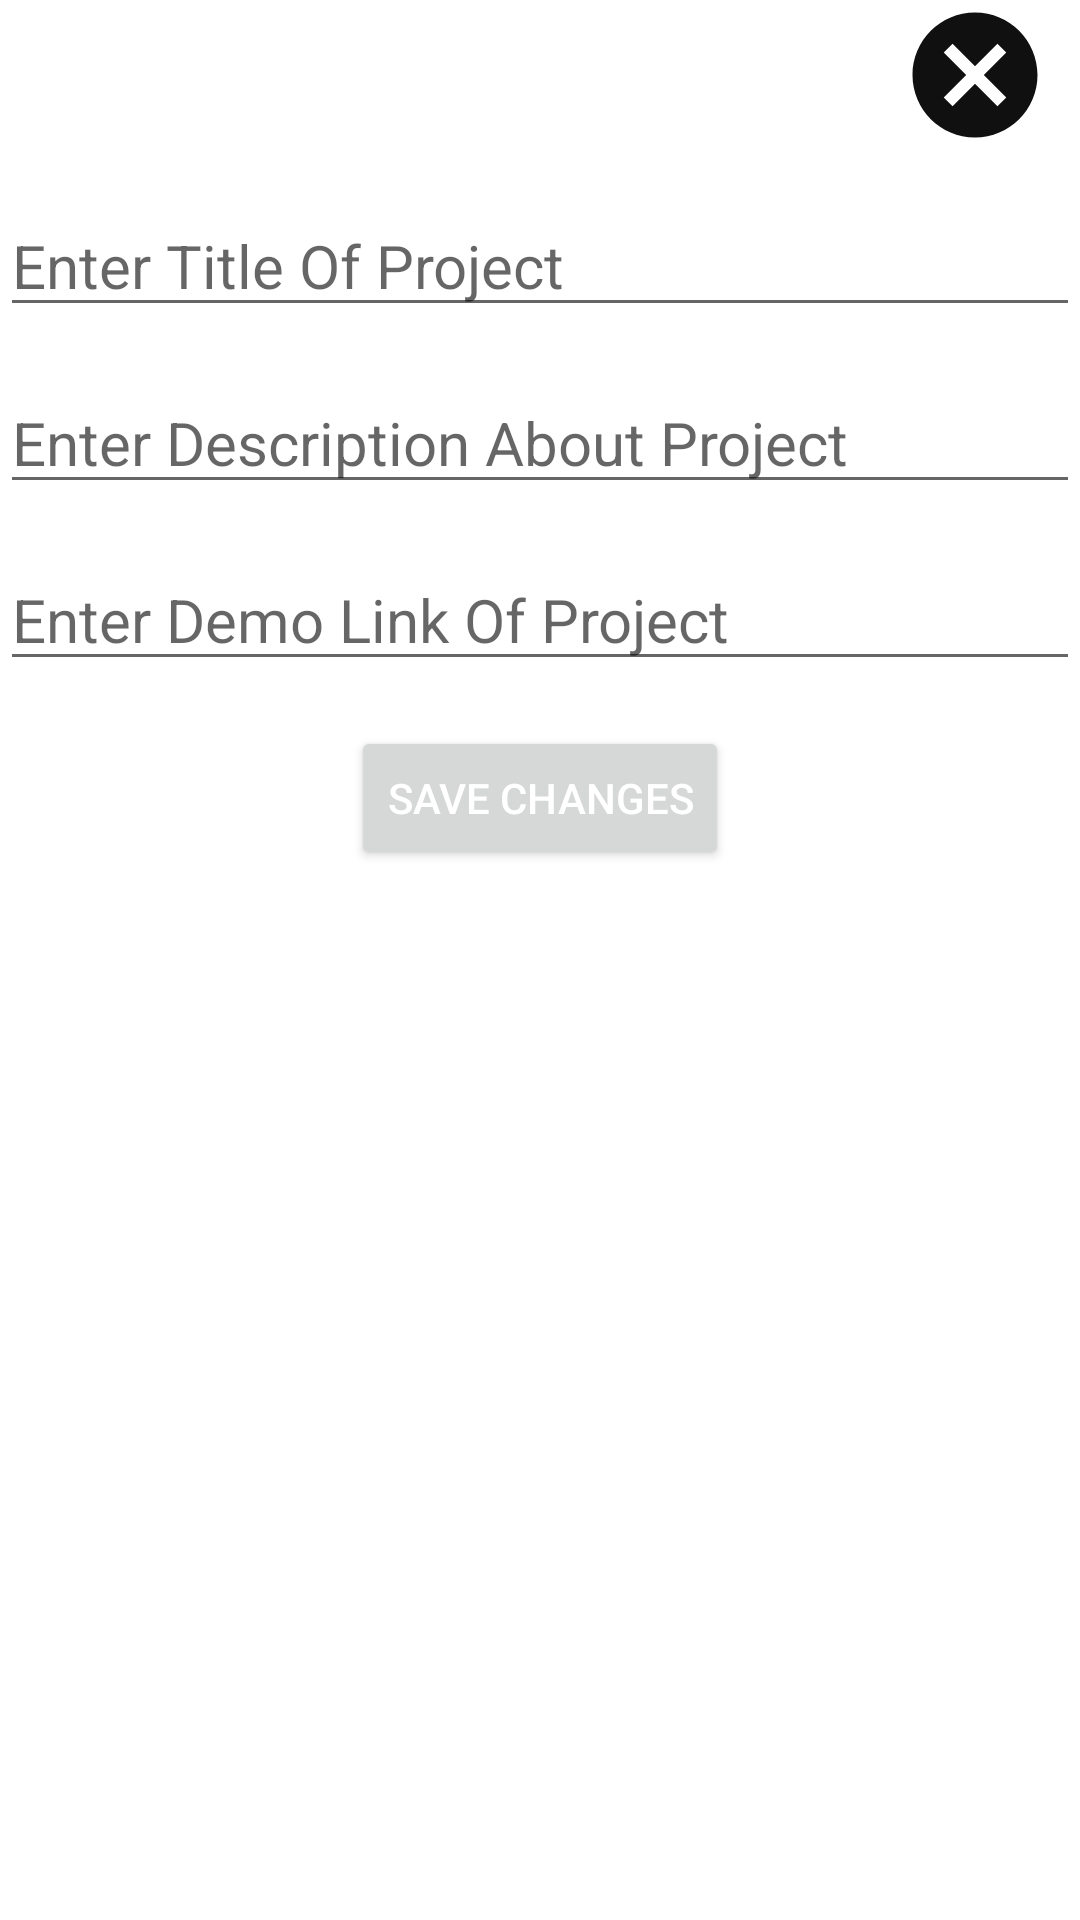

Named icons in this screenshot (1080 x 1920) and their bounding boxes, bbox=(x1, y1, x2, y2):
cancel: bbox=(912, 12, 1038, 138)
